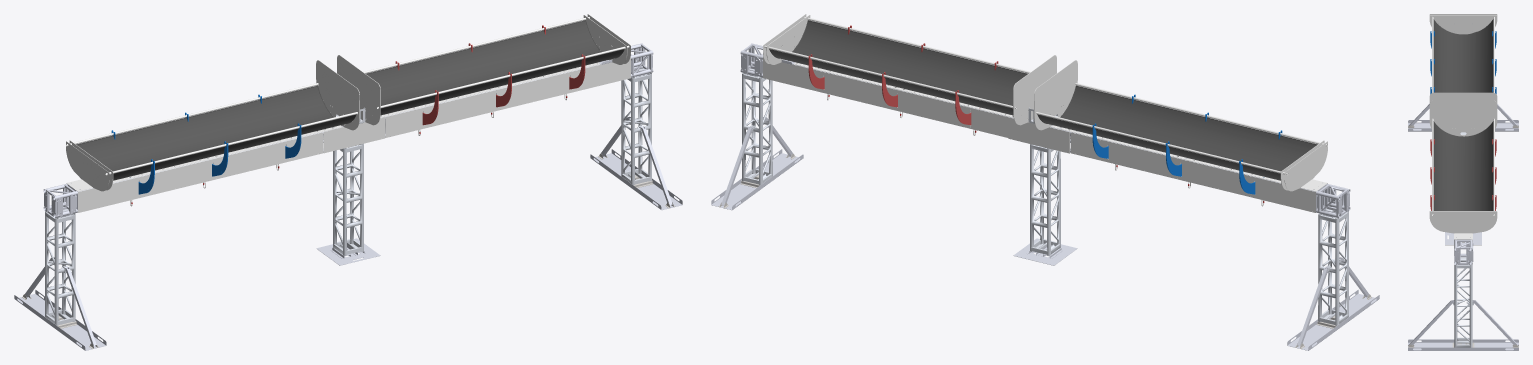
File: Barge.fbx
3 renders of one model, left to right at view 1: azimuth 30°, elevation 25°; view 2: azimuth 150°, elevation 25°; view 3: azimuth 270°, elevation 25°, orthographic. The views are drawn at different scales.
Parts seen in each view (by area): view 1: GE-25228.001, GE-25228, FE-01003, FE-01003.001, FE-01003.003, GE-25207.001, GE-25223.002, GE-25223.007, GE-25223.003, GE-25223.004, GE-25207, GE-25203-01.001 (+11 smaller); view 2: GE-25228.001, GE-25228, FE-01003, FE-01003.003, FE-01003.001, GE-25207.001, GE-25223, GE-25223.006, GE-25223.005, GE-25223.001, GE-25207, GE-25211_Vinyl (+11 smaller); view 3: GE-25228, GE-25228.001, GE-25207, GE-25209-Vinyl, FE-01003.003, GE-25203-01.001, GE-25208.001, GE-25207.001, GE-25203-01, FE-01013.002, FE-01020-01, GE-25204.002 (+6 smaller).
Part boxes in pixels (x1,y1,x2,y2): GE-25228.001: [76, 85, 356, 180]; GE-25228: [366, 20, 624, 115]; FE-01003: [45, 206, 75, 325]; FE-01003.001: [333, 143, 363, 255]; FE-01003.003: [621, 68, 651, 185]; GE-25207.001: [316, 60, 359, 130]; GE-25223.002: [496, 72, 569, 110]; GE-25223.007: [212, 141, 285, 179]; GE-25223.003: [139, 159, 212, 197]; GE-25223.004: [423, 90, 496, 128]; GE-25207: [337, 55, 380, 125]; GE-25203-01.001: [590, 149, 682, 210]; GE-25228.001: [1037, 85, 1317, 180]; GE-25228: [769, 20, 1027, 115]; FE-01003: [1318, 206, 1348, 325]; FE-01003.003: [742, 65, 772, 185]; FE-01003.001: [1030, 144, 1060, 255]; GE-25207.001: [1034, 60, 1077, 130]; GE-25223: [824, 72, 897, 110]; GE-25223.006: [1108, 141, 1181, 179]; GE-25223.005: [897, 90, 970, 128]; GE-25223.001: [1181, 159, 1254, 197]; GE-25207: [1013, 55, 1056, 125]; GE-25211_Vinyl: [1008, 117, 1069, 153]; GE-25228: [1433, 121, 1493, 210]; GE-25228.001: [1433, 19, 1493, 92]; GE-25207: [1429, 100, 1497, 136]; GE-25209-Vinyl: [1429, 212, 1497, 233]; FE-01003.003: [1454, 257, 1472, 347]; GE-25203-01.001: [1408, 339, 1518, 350]; GE-25208.001: [1429, 15, 1497, 34]; GE-25207.001: [1429, 92, 1497, 128]; GE-25203-01: [1408, 120, 1518, 131]; FE-01013.002: [1454, 240, 1473, 264]; FE-01020-01: [1445, 232, 1481, 244]; GE-25204.002: [1472, 300, 1517, 345].
Size of the model in its own units: 890 by 256 by 183.
